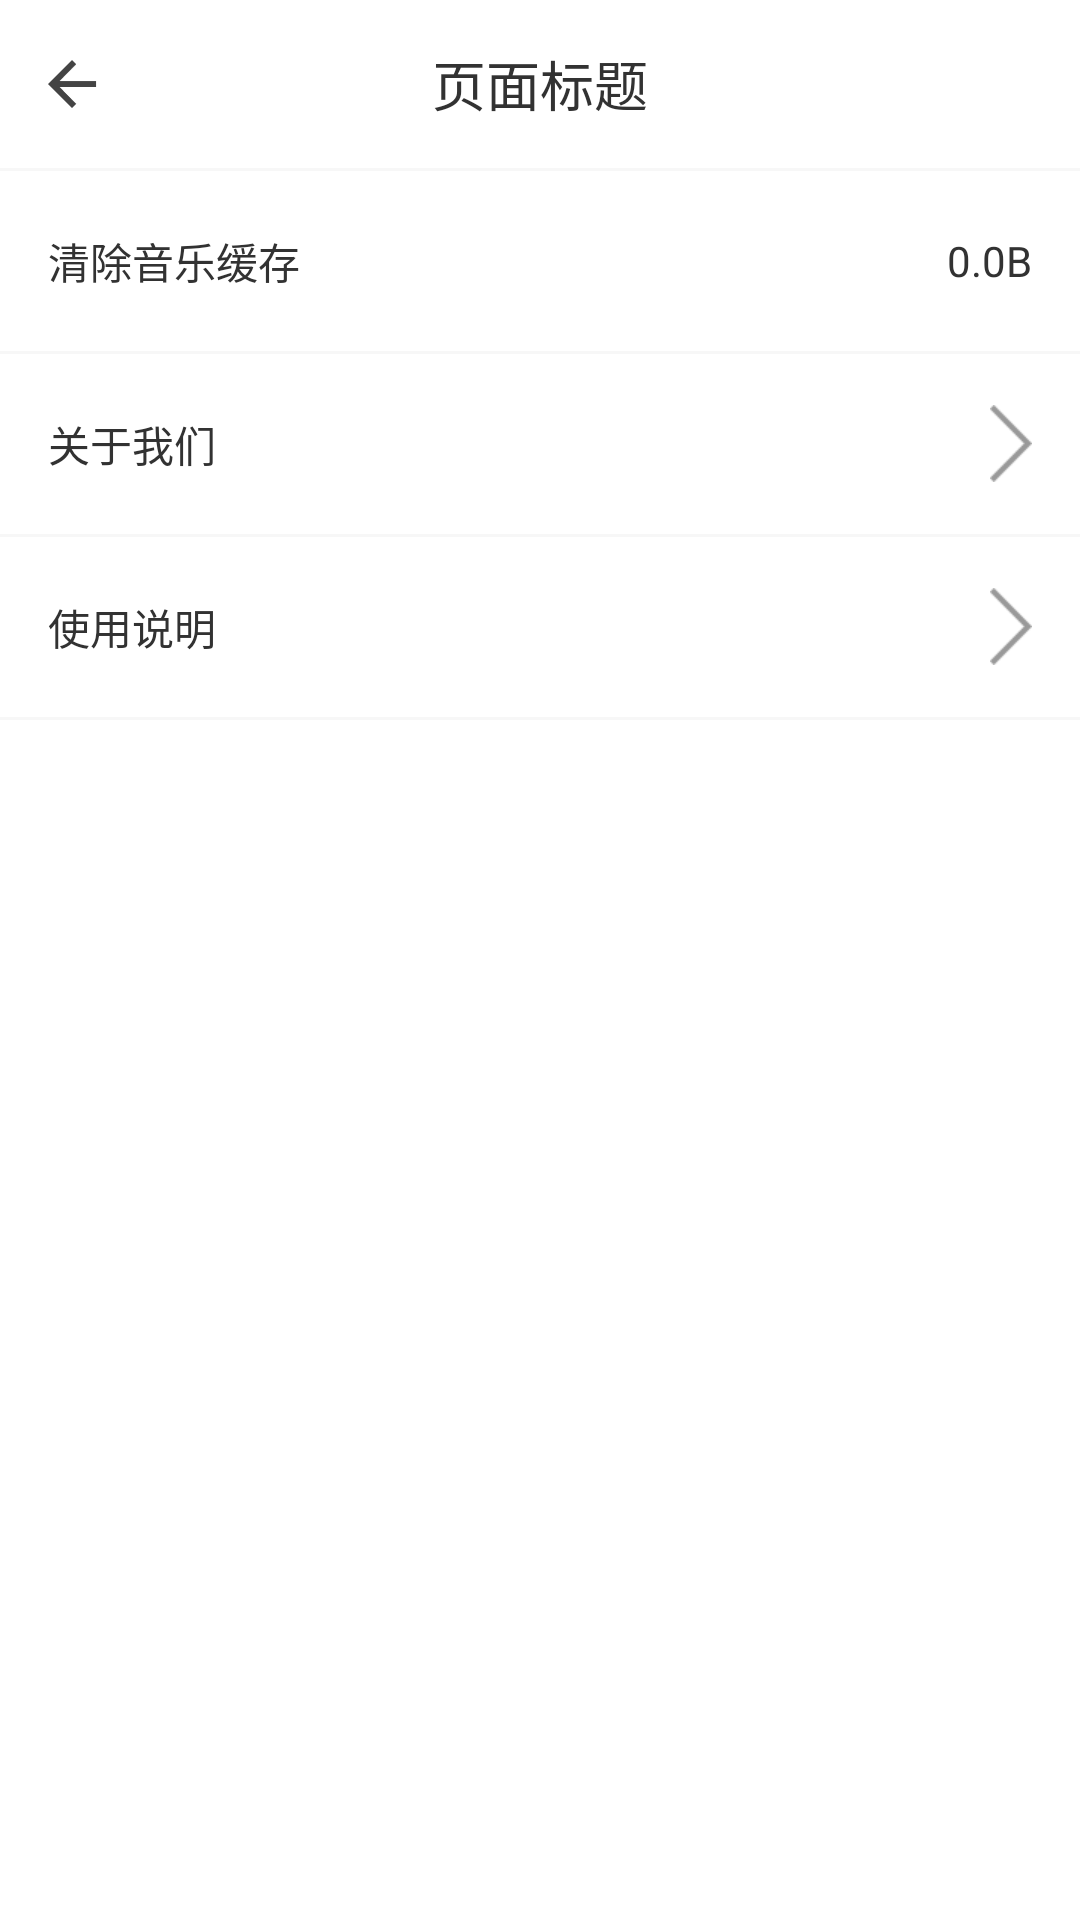

Point at icon controls on the screen. Image size 1080 x 1920, points as (x,y).
set arrow: (1011,443), (1011,626)
